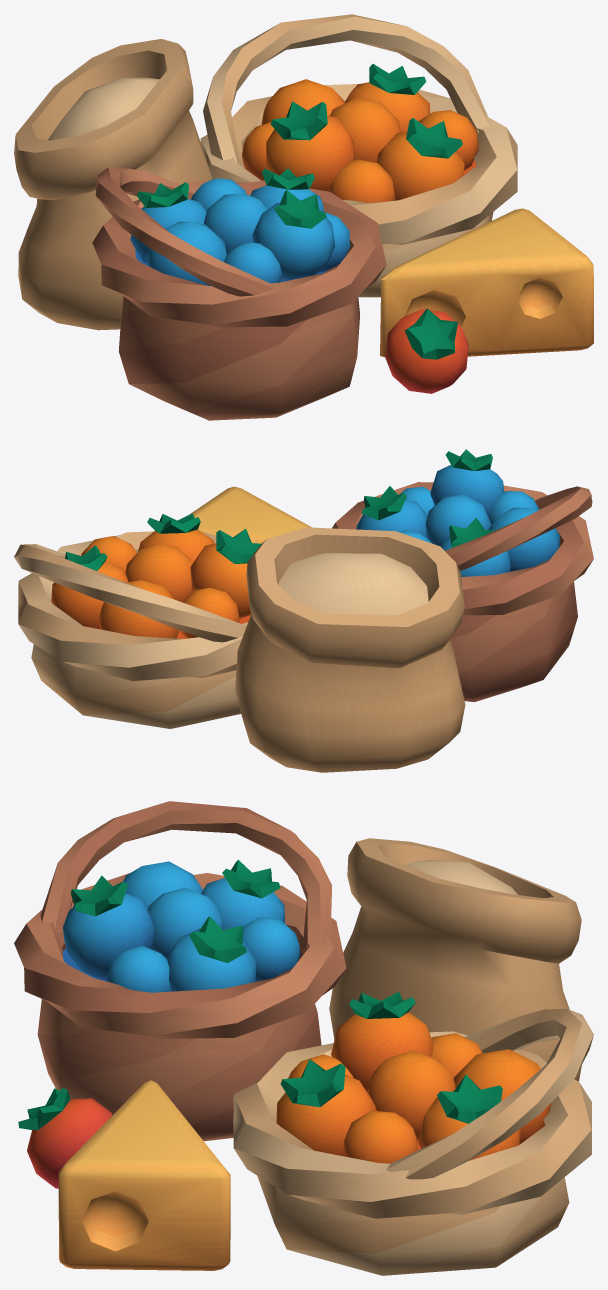
File: Food_Pile_Medium.gltf
The picture shows the model from 3 angles, top to bottom: view 1: azimuth 30°, elevation 25°; view 2: azimuth 150°, elevation 25°; view 3: azimuth 270°, elevation 25°; orthographic projection. The views are drawn at different scales.
Parts seen in each view (by area): view 1: Food_Pile_Medium; view 2: Food_Pile_Medium; view 3: Food_Pile_Medium.
Part boxes in pixels (<box>): Food_Pile_Medium: <box>14,14,593,420</box>; Food_Pile_Medium: <box>14,449,593,772</box>; Food_Pile_Medium: <box>14,801,593,1275</box>.
Bounding box in the file's own units: 1.6 × 0.7179 × 1.46.
1 material, 1 textured.
